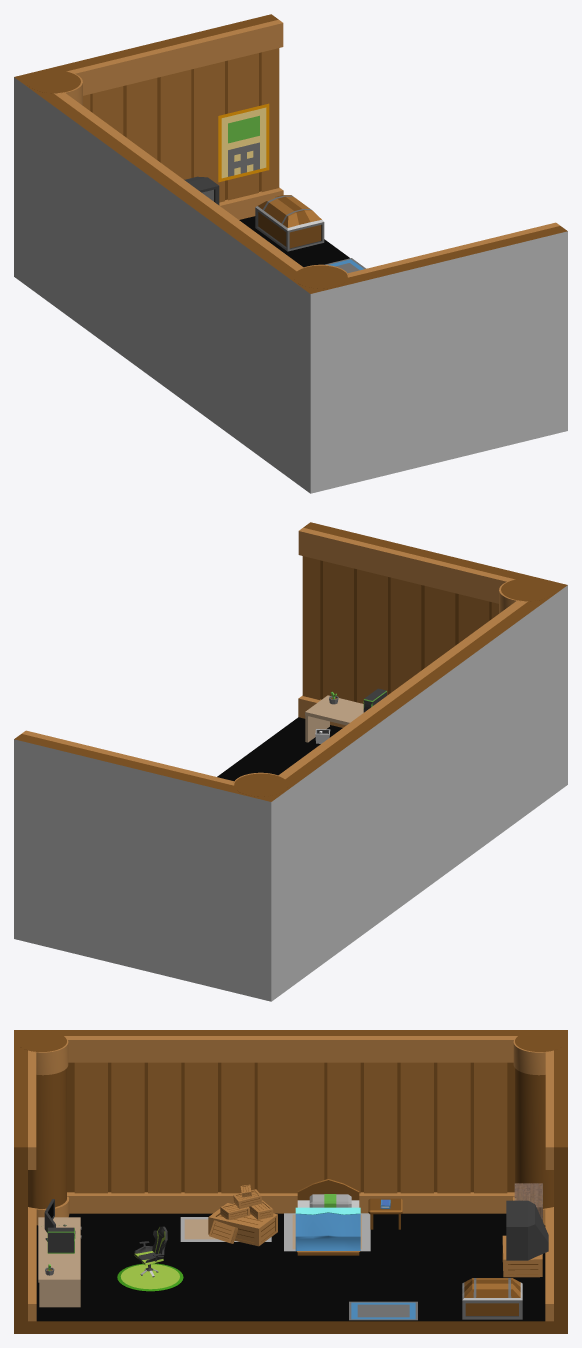
Rendered from room.glb.
The picture shows the model from 3 angles, top to bottom: view 1: azimuth 30°, elevation 25°; view 2: azimuth 150°, elevation 25°; view 3: azimuth 270°, elevation 25°; orthographic projection. The views are drawn at different scales.
Visible parts, largest first — view 1: Interior, Poster, Chest; view 2: Interior; view 3: Interior, TV, Chest, Mat, PC.
Part boxes in pixels (bbox=[...]): Interior: bbox=[14, 14, 567, 493]; Poster: bbox=[218, 103, 269, 182]; Chest: bbox=[255, 195, 324, 251]; Interior: bbox=[14, 522, 567, 1001]; Interior: bbox=[14, 1030, 567, 1333]; TV: bbox=[502, 1200, 548, 1277]; Chest: bbox=[462, 1278, 522, 1319]; Mat: bbox=[349, 1301, 417, 1320]; PC: bbox=[47, 1227, 75, 1253].
Bounding box in the file's own units: 2 × 1.48 × 3.99.
5 materials, 5 textured.
